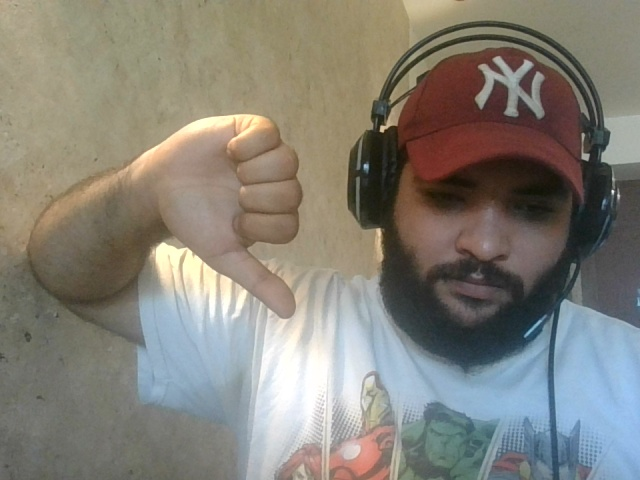no: (152, 112, 311, 323)
